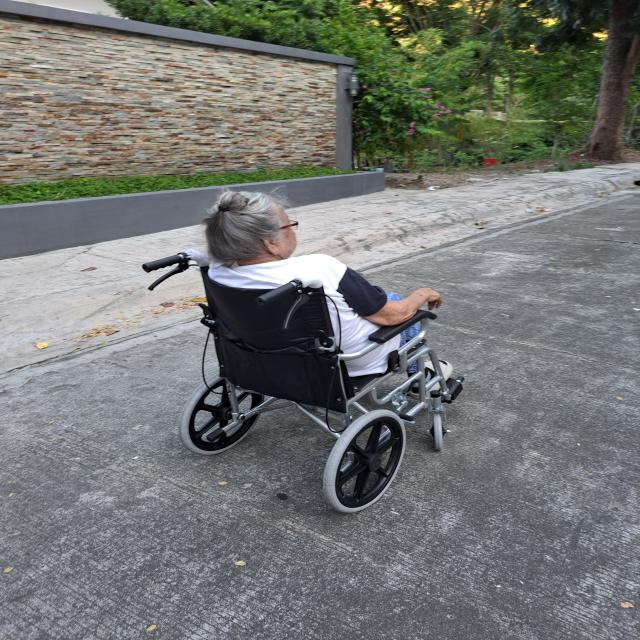wheelchairs: (140, 251, 468, 519)
